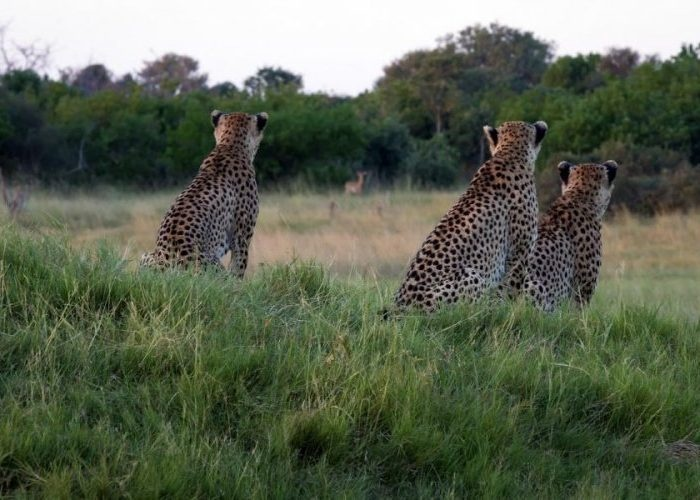leopard: (389, 115, 552, 320), (137, 104, 272, 285), (514, 155, 622, 321)
